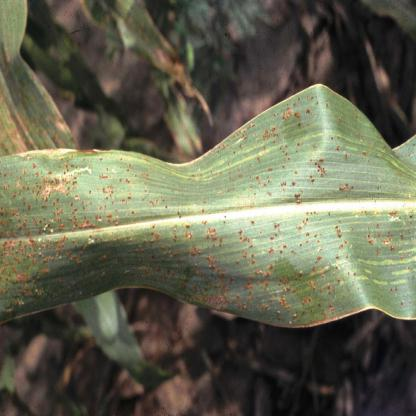Corn rust leaf: (0, 78, 416, 337)
